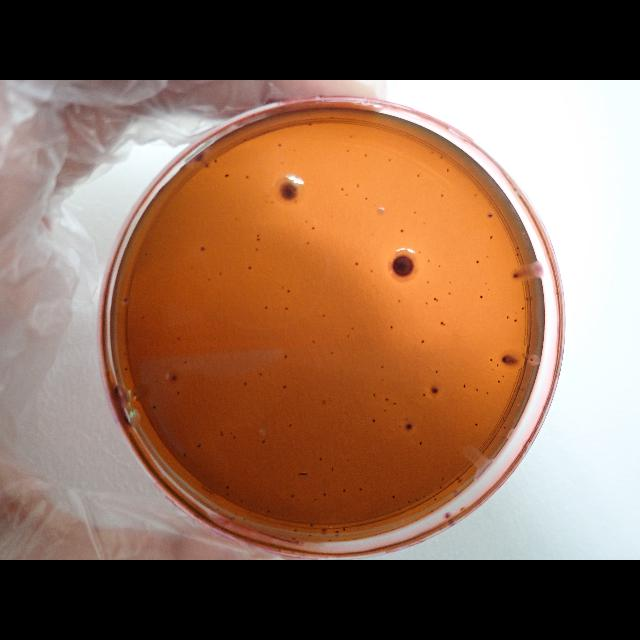colony: (388, 253, 417, 279), (278, 182, 300, 202), (431, 386, 439, 396), (298, 470, 308, 478), (502, 353, 508, 365), (172, 374, 178, 382), (123, 296, 129, 304), (405, 424, 413, 430), (320, 526, 328, 532), (200, 245, 206, 252), (196, 443, 202, 449), (152, 404, 158, 410), (290, 493, 296, 499), (292, 528, 298, 534), (488, 212, 492, 218), (243, 380, 247, 386), (283, 384, 287, 390), (288, 422, 292, 428), (262, 438, 266, 444), (183, 452, 187, 458), (124, 366, 128, 372), (224, 174, 230, 178), (214, 158, 218, 164), (245, 174, 249, 180), (278, 142, 282, 148), (308, 122, 312, 128), (400, 228, 404, 234), (390, 324, 394, 330), (420, 340, 426, 344), (475, 387, 479, 393), (516, 386, 520, 392), (384, 398, 390, 402), (372, 418, 376, 424), (372, 392, 376, 398), (359, 486, 363, 492), (398, 507, 402, 513), (342, 526, 346, 532), (334, 530, 340, 534), (310, 522, 314, 528), (226, 484, 230, 490), (177, 390, 180, 396), (441, 320, 444, 326), (331, 466, 334, 472), (514, 318, 518, 322), (248, 266, 252, 270), (284, 354, 288, 358), (259, 372, 263, 376), (219, 272, 223, 276), (355, 262, 359, 266), (311, 226, 315, 230), (463, 384, 467, 388), (435, 370, 439, 374), (380, 365, 384, 369), (323, 492, 327, 496), (342, 488, 346, 492), (392, 494, 396, 498), (422, 495, 426, 499), (439, 486, 443, 490), (433, 497, 437, 501), (267, 509, 271, 513), (498, 378, 500, 384), (476, 260, 478, 264), (522, 306, 524, 310), (184, 360, 186, 364), (434, 297, 436, 301), (442, 324, 446, 326), (398, 299, 400, 303), (490, 358, 492, 362), (496, 363, 498, 367), (486, 391, 488, 395), (530, 358, 532, 362), (320, 457, 322, 461), (416, 497, 418, 501), (408, 500, 410, 504), (442, 477, 444, 481), (240, 499, 242, 503), (480, 296, 482, 298), (507, 316, 509, 318), (436, 300, 438, 302)
